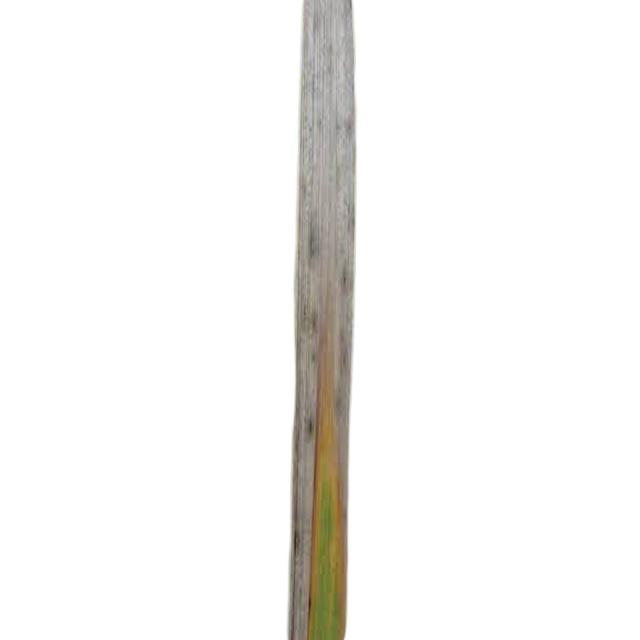Leaf scald: (224, 1, 495, 640)
